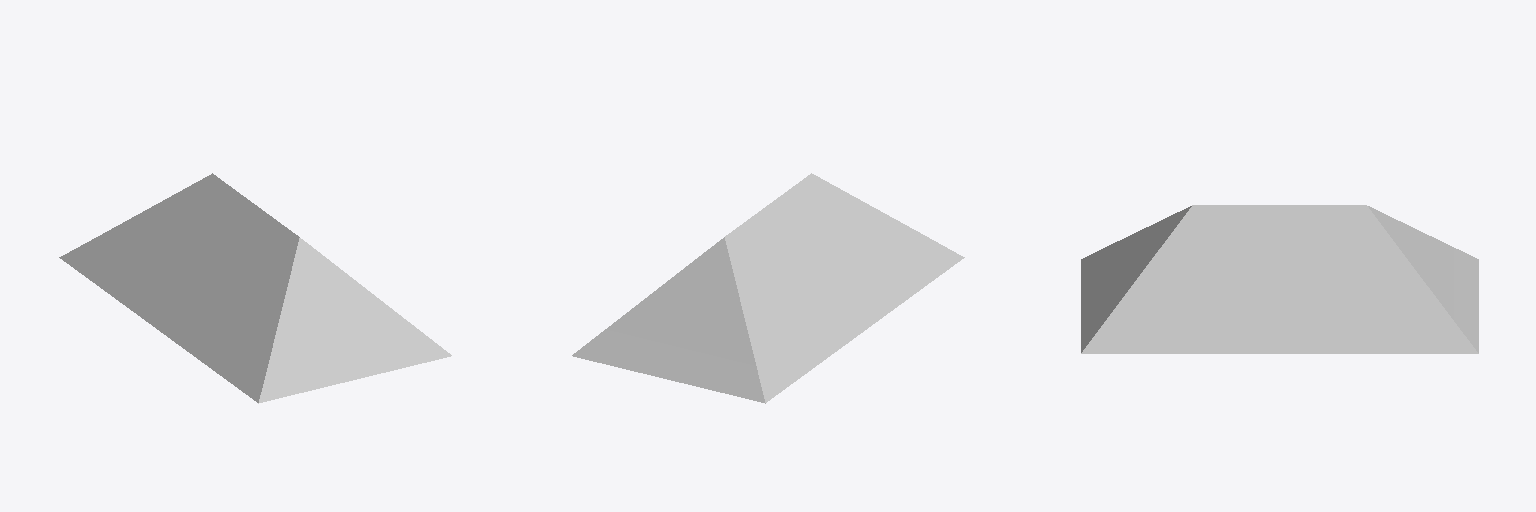
Rendered from roof_uv.obj.
3 views of the same model, side by side, from view 1: azimuth 30°, elevation 25°; view 2: azimuth 150°, elevation 25°; view 3: azimuth 270°, elevation 25° (orthographic).
Bounding box in the file's own units: 2.58 × 1.29 × 4.58.